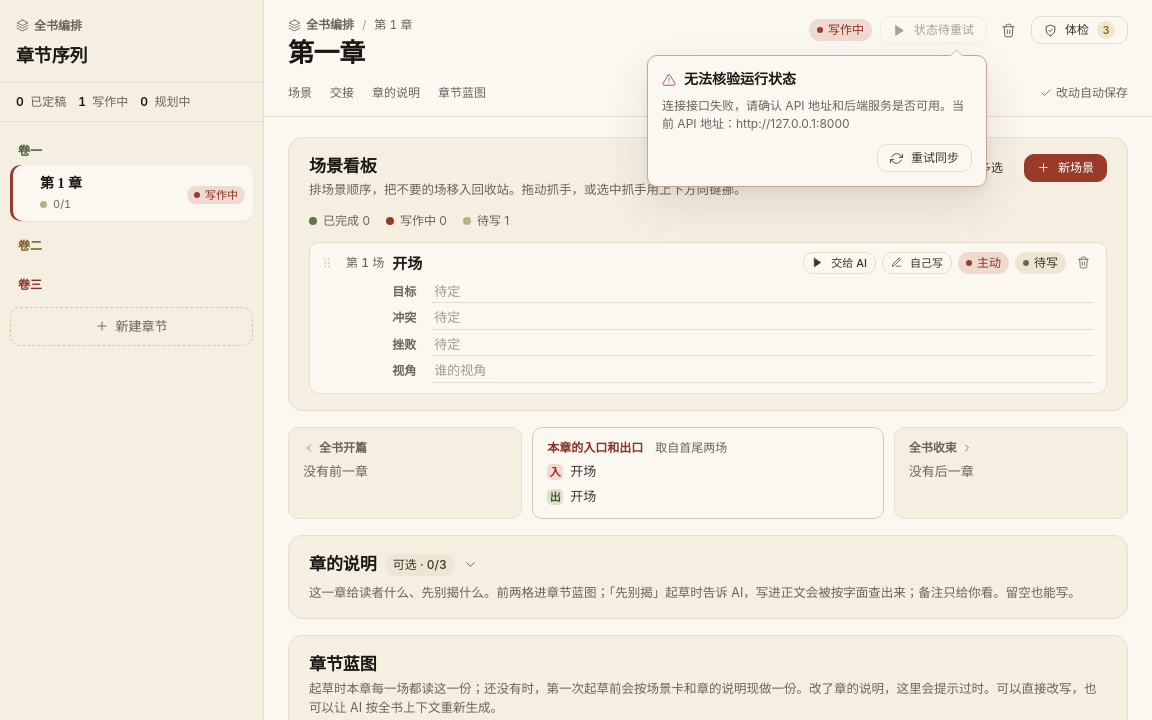
Test case: 章节编排 · 服务端目录真相 › 章的说明一格都没写时收成一行（场景看板排在它前面）；点开才出现各格
This screenshot has width=1152, height=720.
Click the button with class "arr-drama-toggle" at x=343, y=565, box [289, 536, 1127, 618]
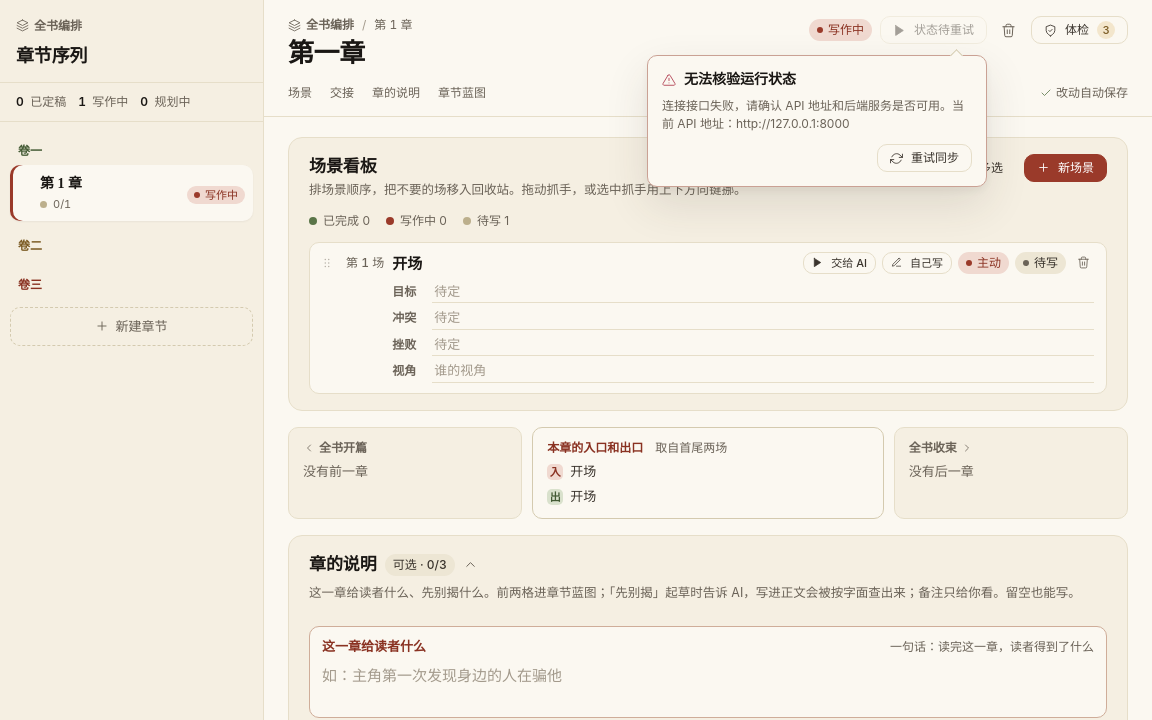
Result: the text box named "这一章给读者什么" is shown at [322, 662, 1094, 707]
